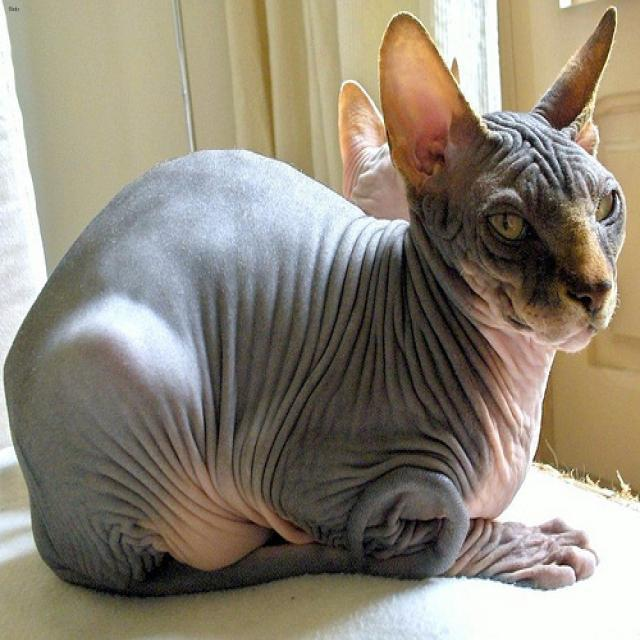Sphynx: (378, 5, 625, 349)
